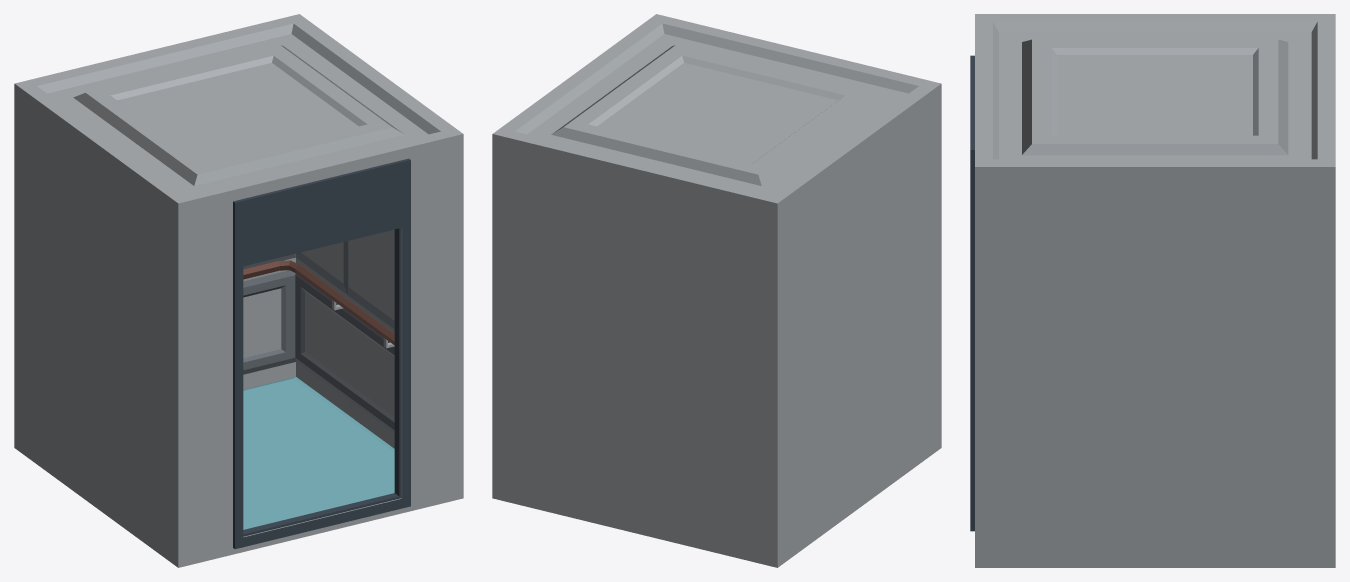
File: Elevator_Interior.FBX
3 views of the same model, side by side, from view 1: azimuth 30°, elevation 25°; view 2: azimuth 150°, elevation 25°; view 3: azimuth 270°, elevation 25° (orthographic). The views are drawn at different scales.
Parts seen in each view (by area): view 1: Elevator_Interior; view 2: Elevator_Interior; view 3: Elevator_Interior.
Boxes of the visible parts, x1,y1,x2,y2 form: Elevator_Interior: [14, 14, 463, 567]; Elevator_Interior: [492, 14, 941, 567]; Elevator_Interior: [970, 14, 1335, 567].
Size of the model in its own units: 246 by 300 by 248.
